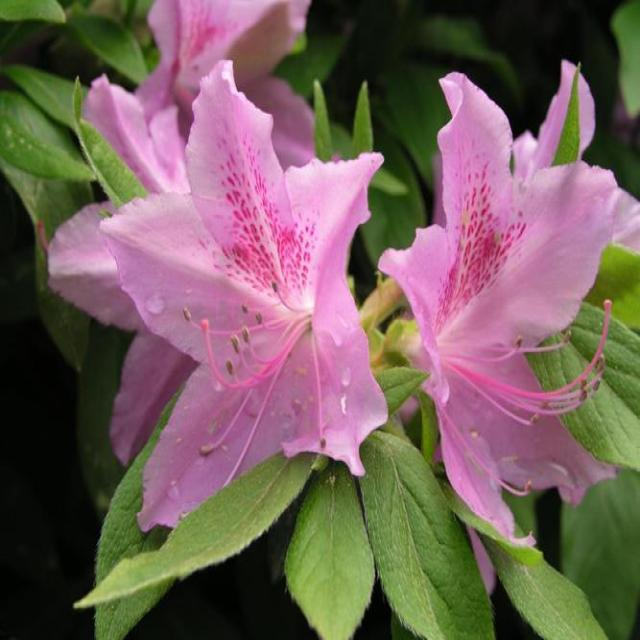azalea: (106, 66, 367, 584), (380, 51, 622, 566)
